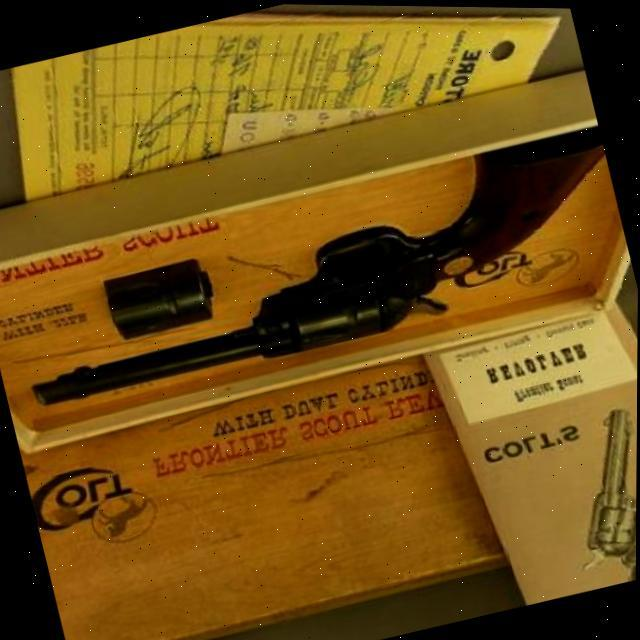gun: (2, 116, 636, 420)
